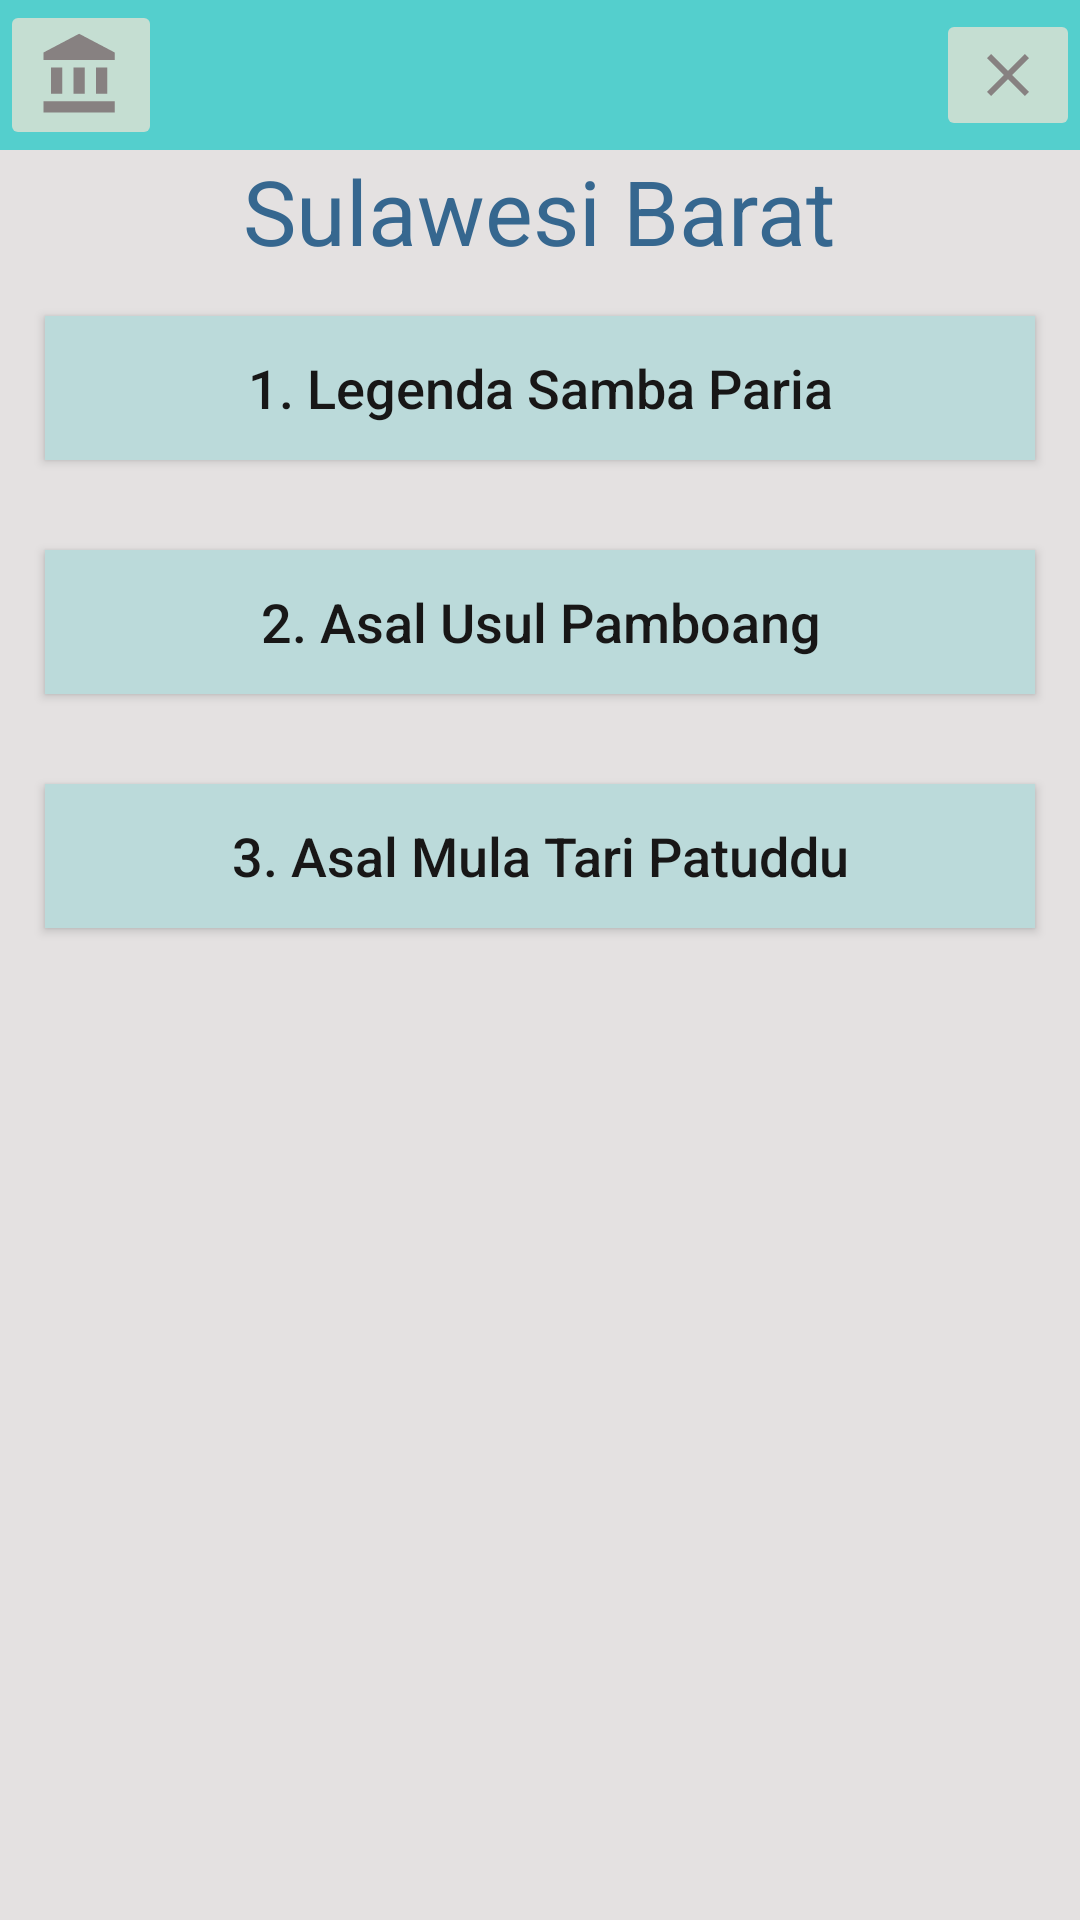

Icons on this 1080x1920 Android screen, each with its box as bbox=(x1, y1, x2, y2):
account balance: bbox=(12, 18, 150, 132)
close: bbox=(948, 27, 1068, 123)
